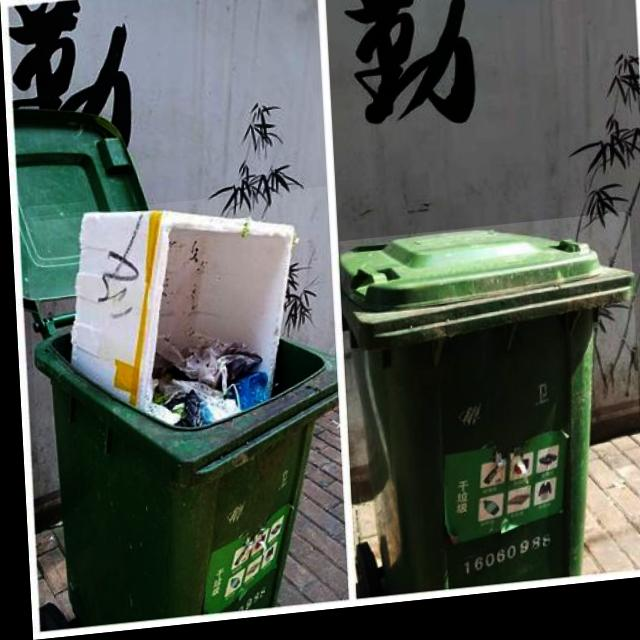garbage_bin: (336, 225, 640, 604)
overflow: (23, 193, 341, 630)
